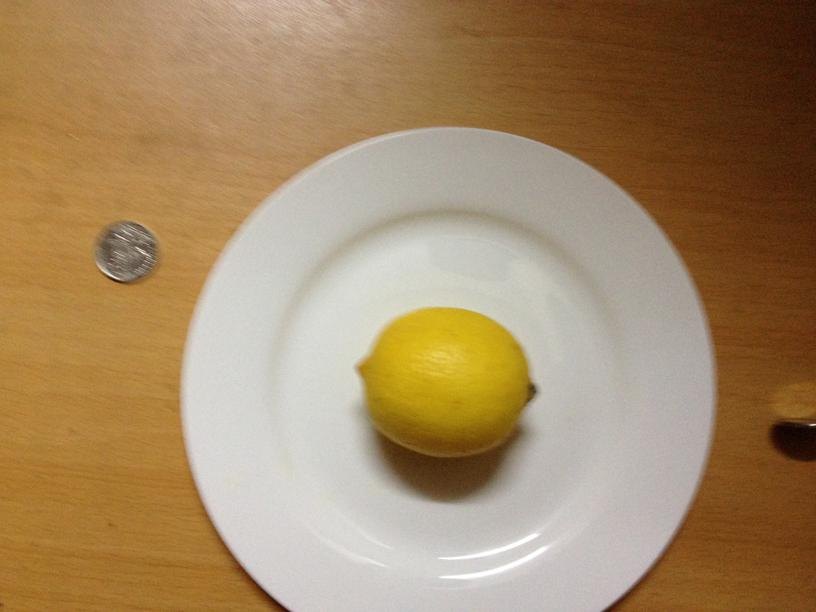coin: (93, 219, 155, 282)
lemon: (361, 309, 530, 456)
